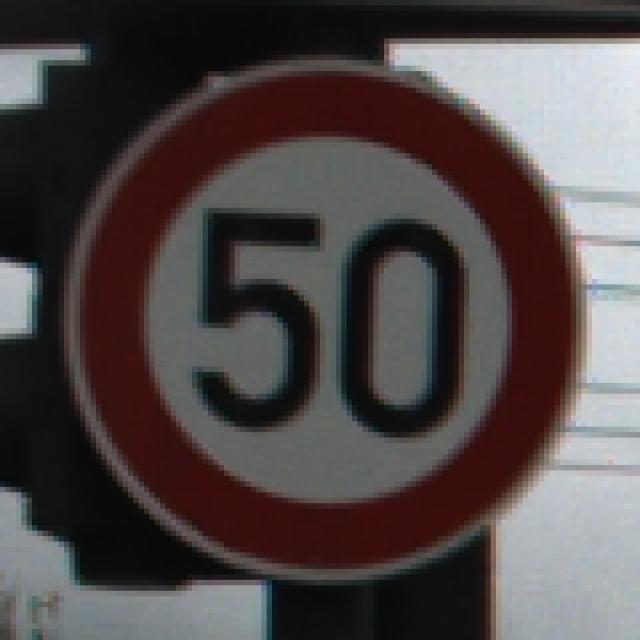speed limit 50: (55, 52, 586, 584)
